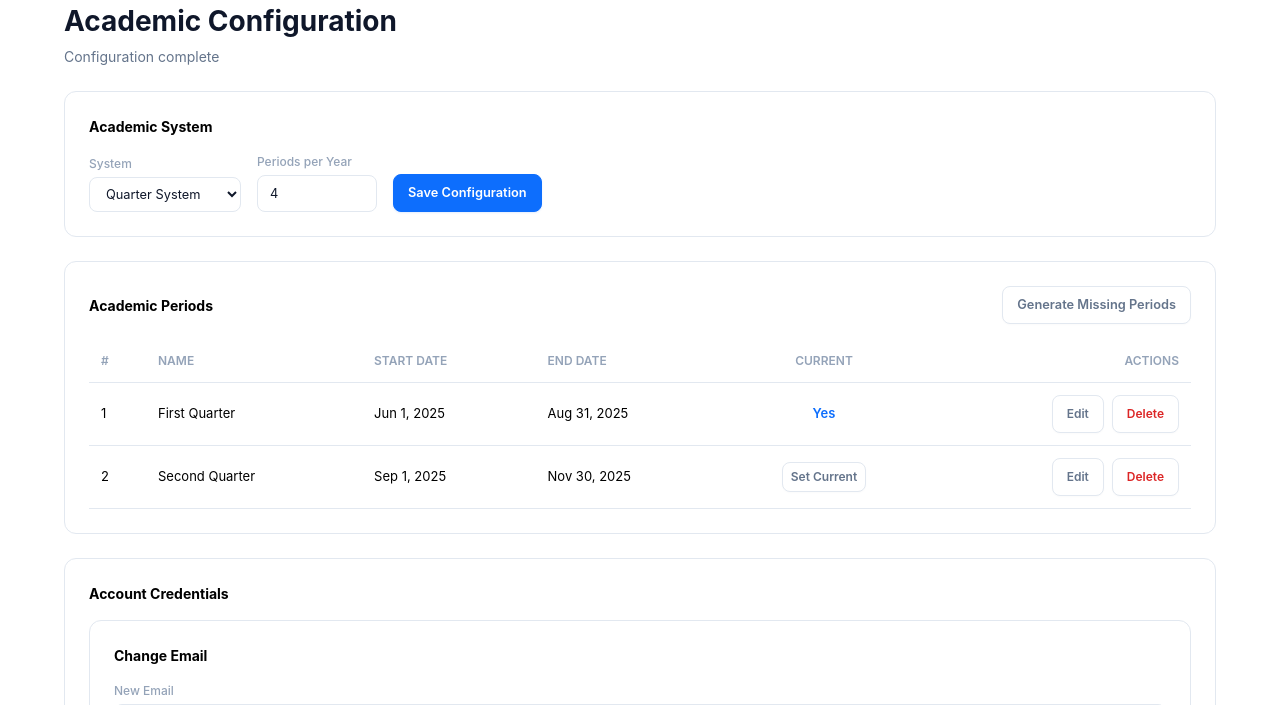
Scenario: SchoolSettings › shows an error toast when saving the configuration fails
Expected: the text "First Quarter" is shown, [146, 383, 362, 446]
Step 1. Click the button "Save Configuration" → (467, 193), box [393, 174, 542, 212]
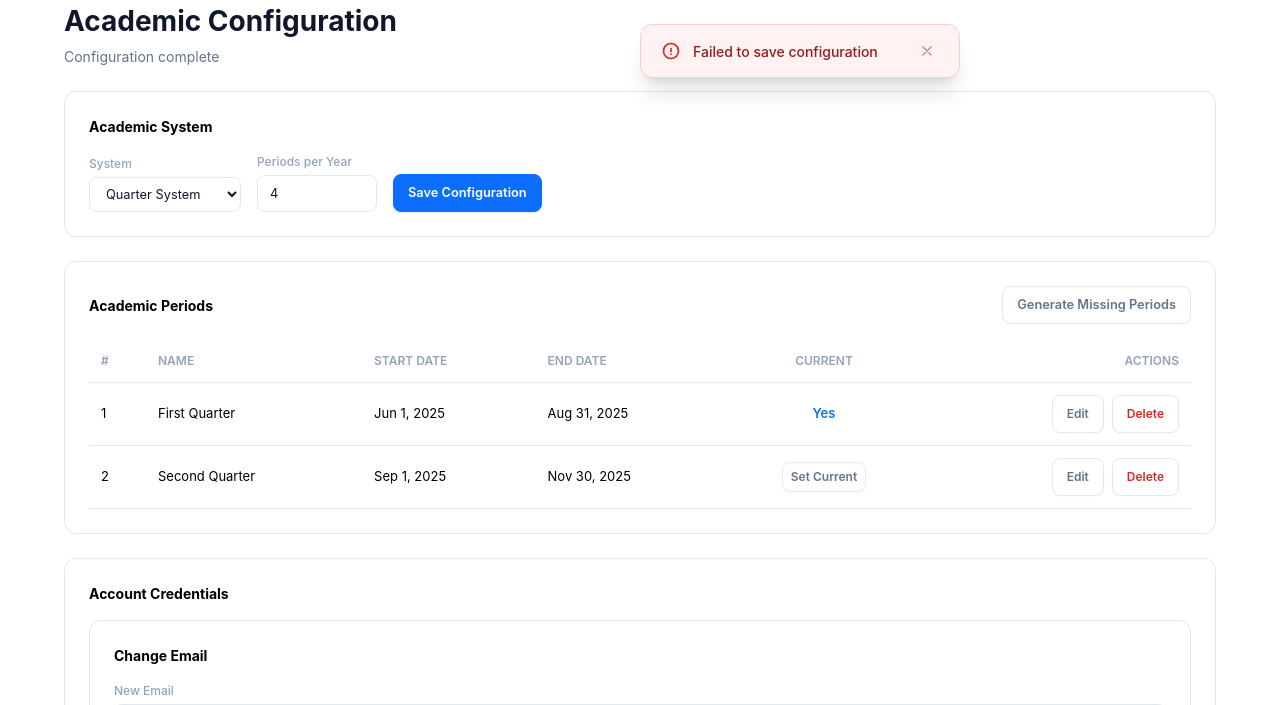
Expected: the text "Failed to save configuration" is shown, [693, 40, 903, 62]
